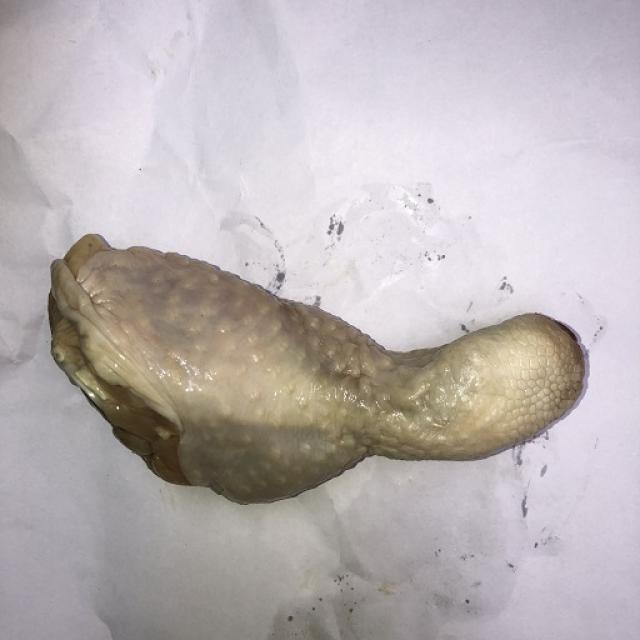chicken: (46, 231, 588, 505)
